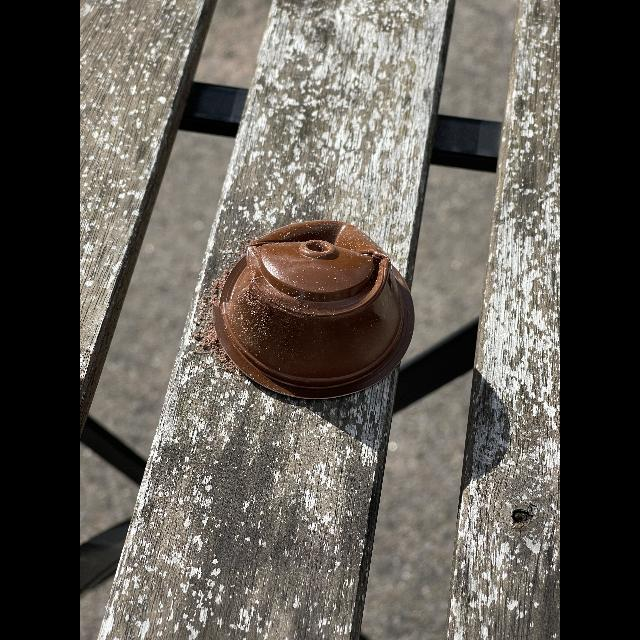damaged_capsule: (200, 206, 430, 418)
